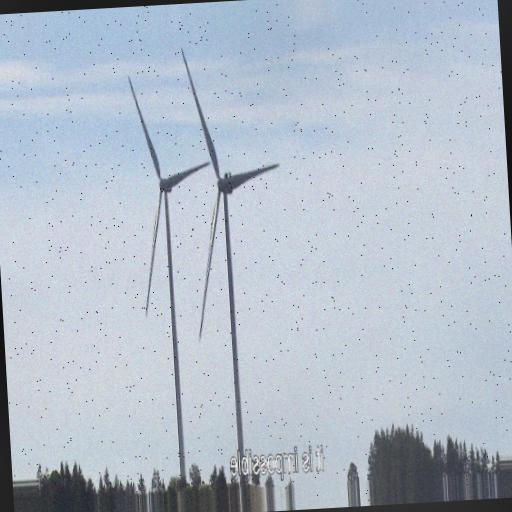wind turbine: (179, 48, 282, 500), (126, 72, 209, 496)
